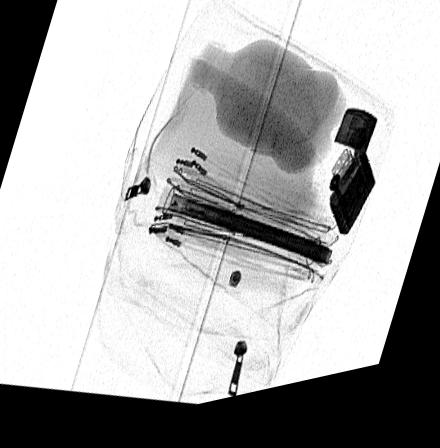Lighter: (327, 124, 376, 250)
